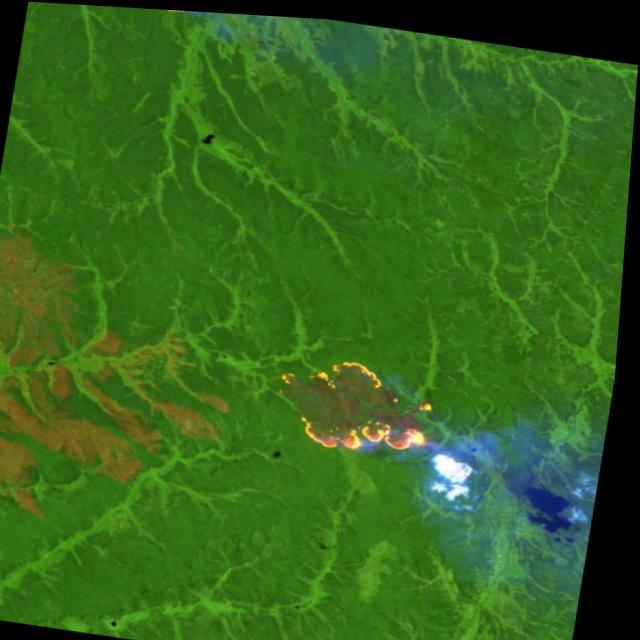fire: (270, 342, 451, 457), (135, 6, 198, 23)
